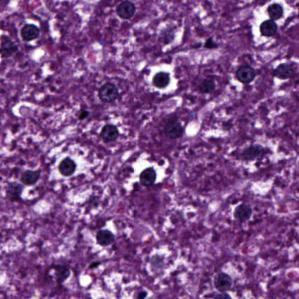inflammation: (260, 0, 289, 42), (15, 20, 43, 43), (150, 65, 174, 91), (93, 226, 117, 250), (101, 120, 122, 146), (58, 153, 77, 180), (235, 198, 254, 225), (112, 2, 140, 20), (140, 167, 158, 190)
